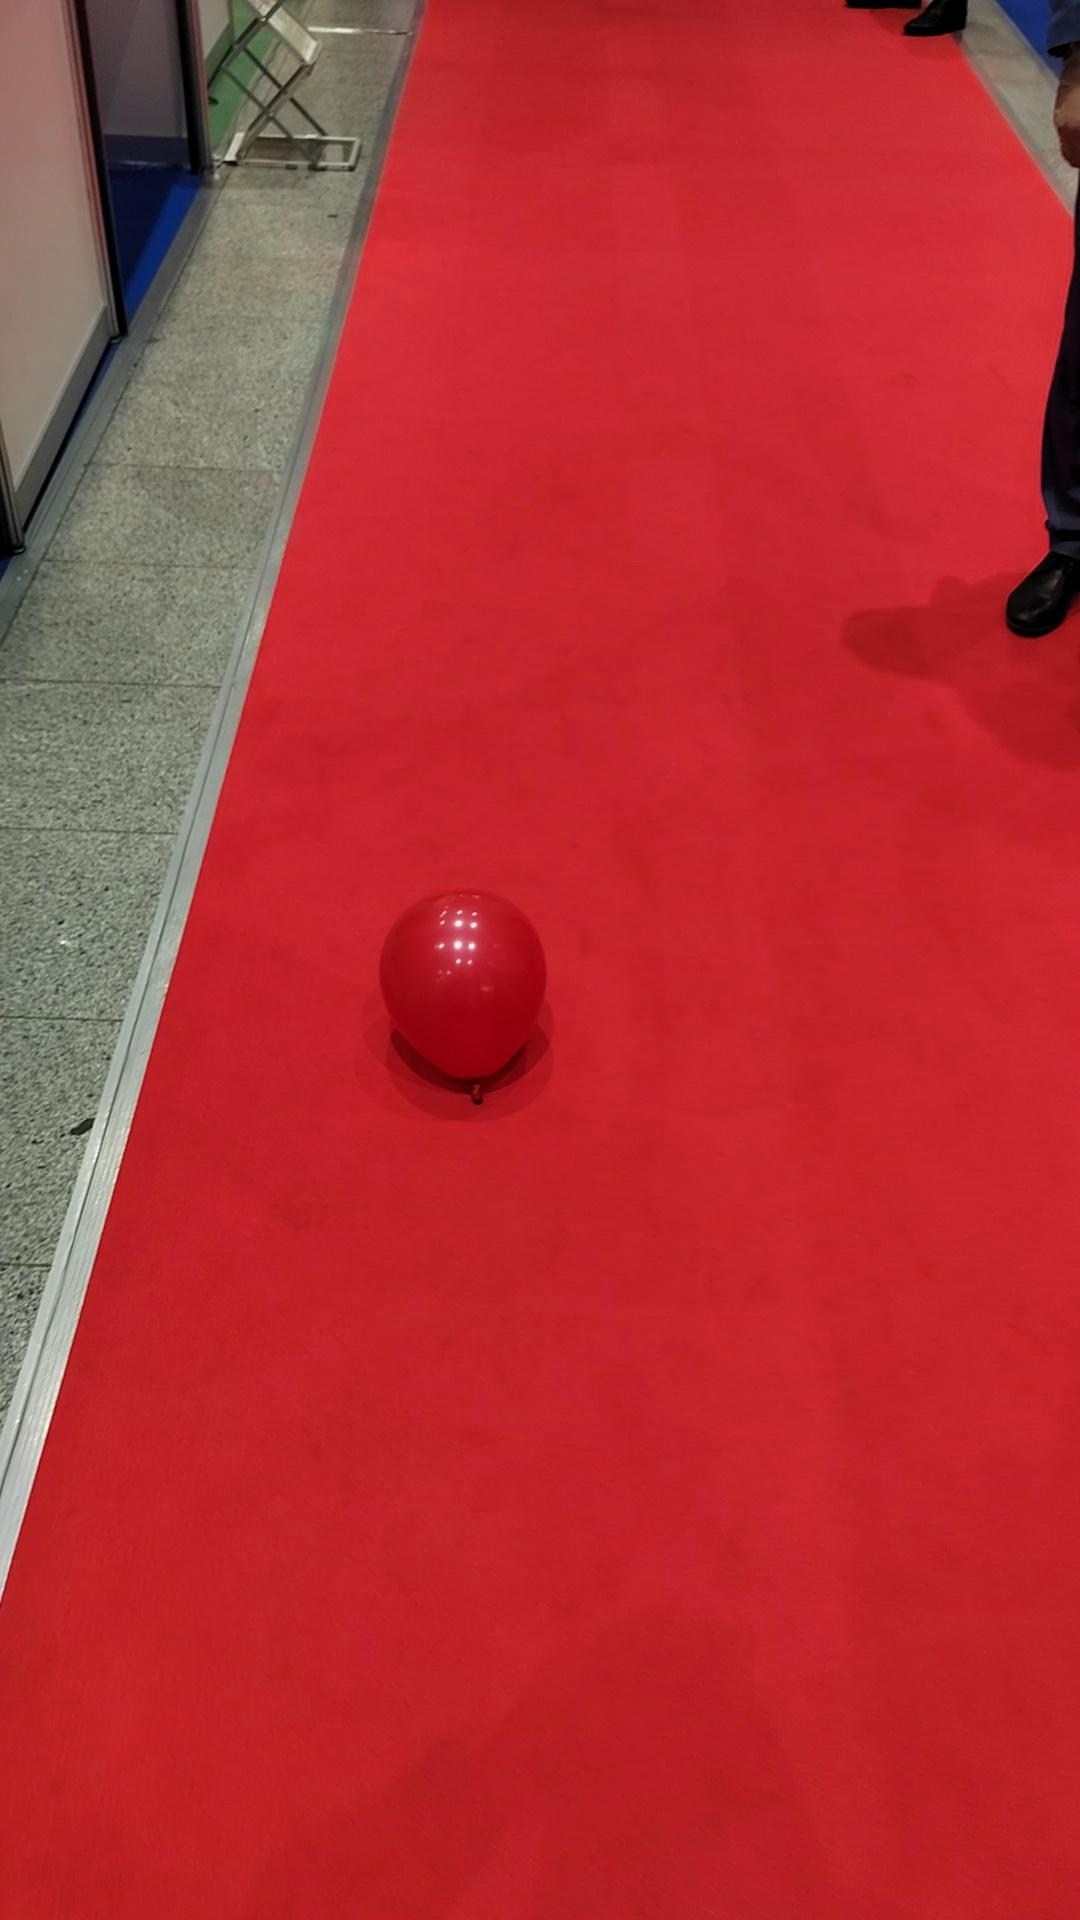red: (378, 890, 547, 1084)
